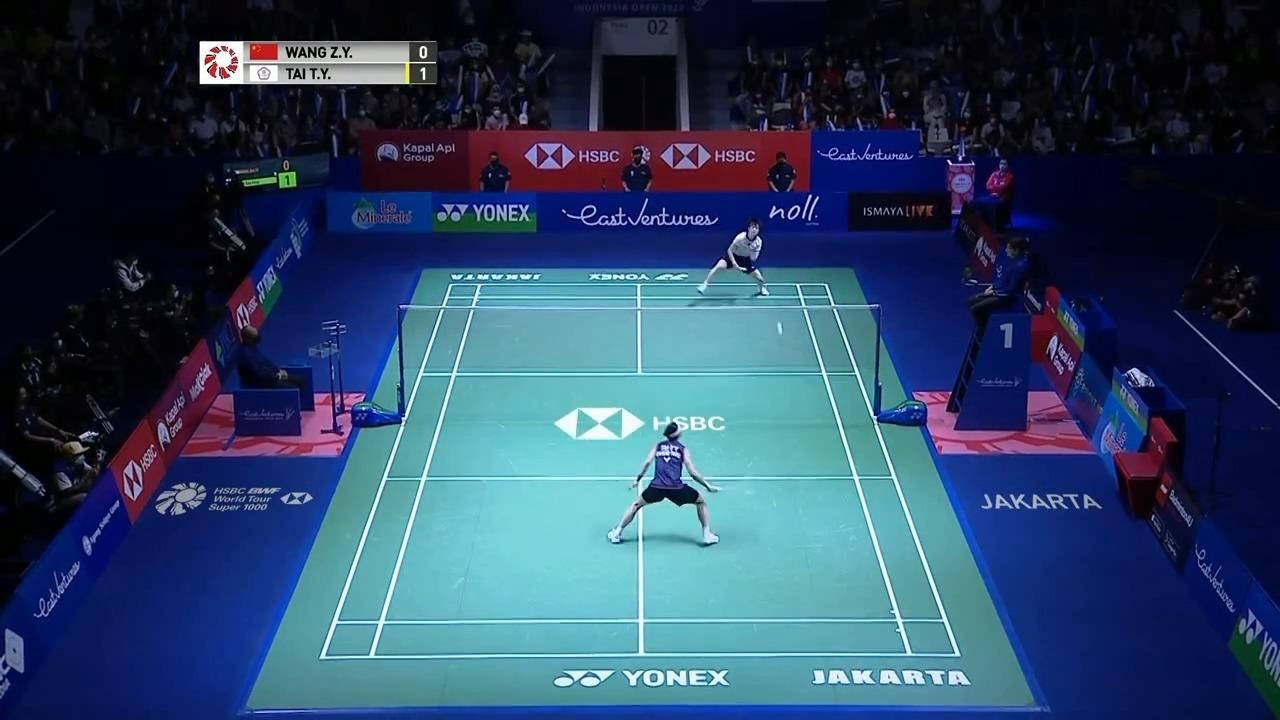shuttle: (775, 324, 786, 339)
